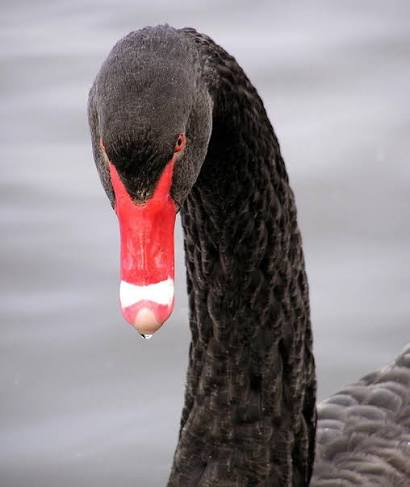black_swan: (87, 19, 410, 486)
